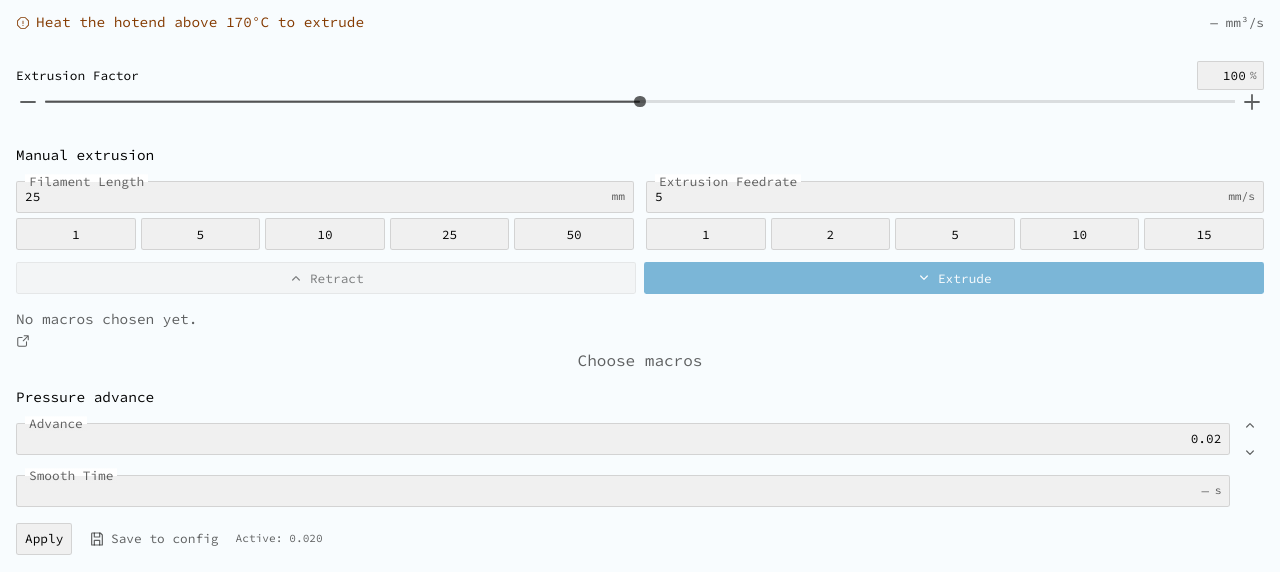
ExtruderModule › does not overwrite a pressure advance field while it is being edited
Replace the text in the number field with class "app-field__input" showing "Advance" with "0.045" at [623, 439], box left=25, top=429, right=1221, bottom=448
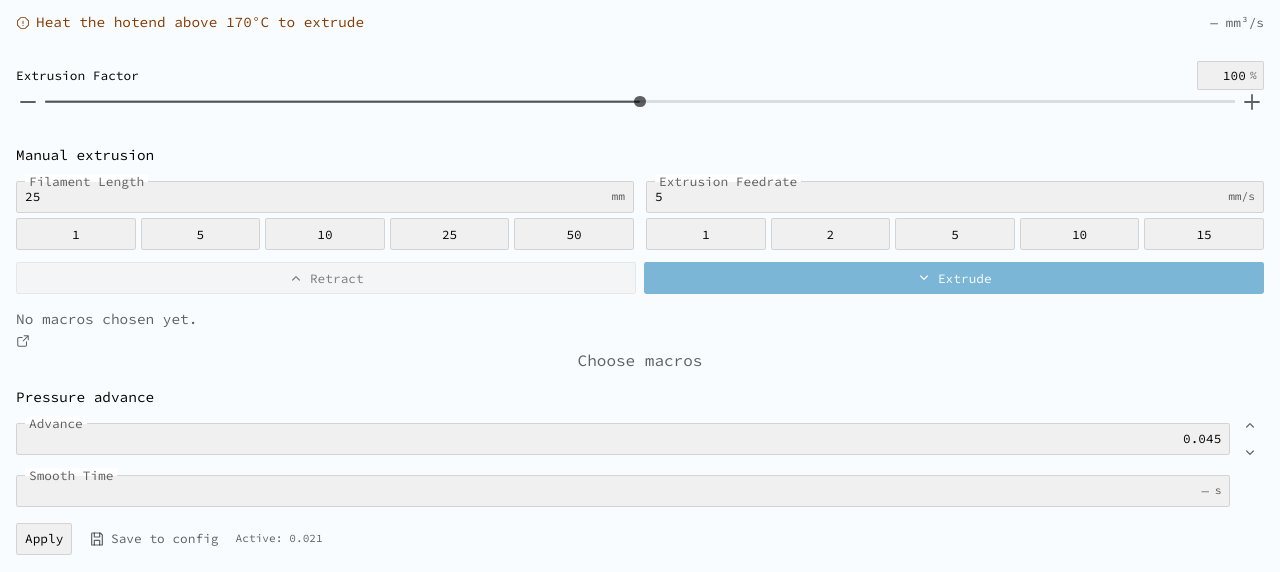
Leave the number field with class "app-field__input" showing "Advance", box left=25, top=429, right=1221, bottom=448
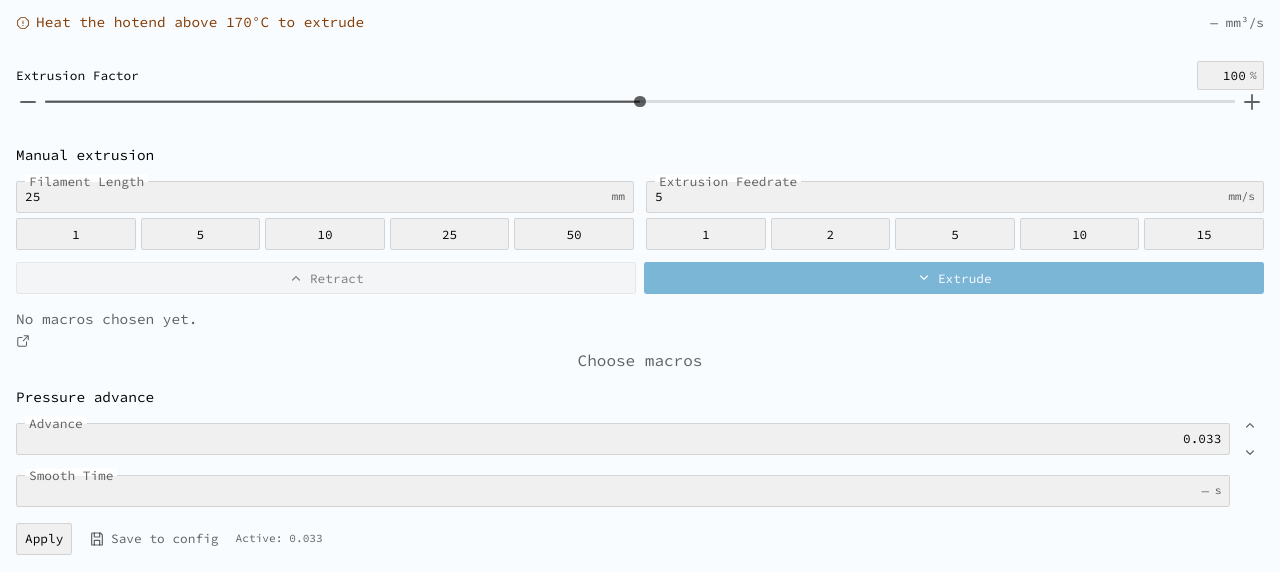
Now the number field with class "app-field__input" holds "0.033", box left=25, top=429, right=1221, bottom=448
